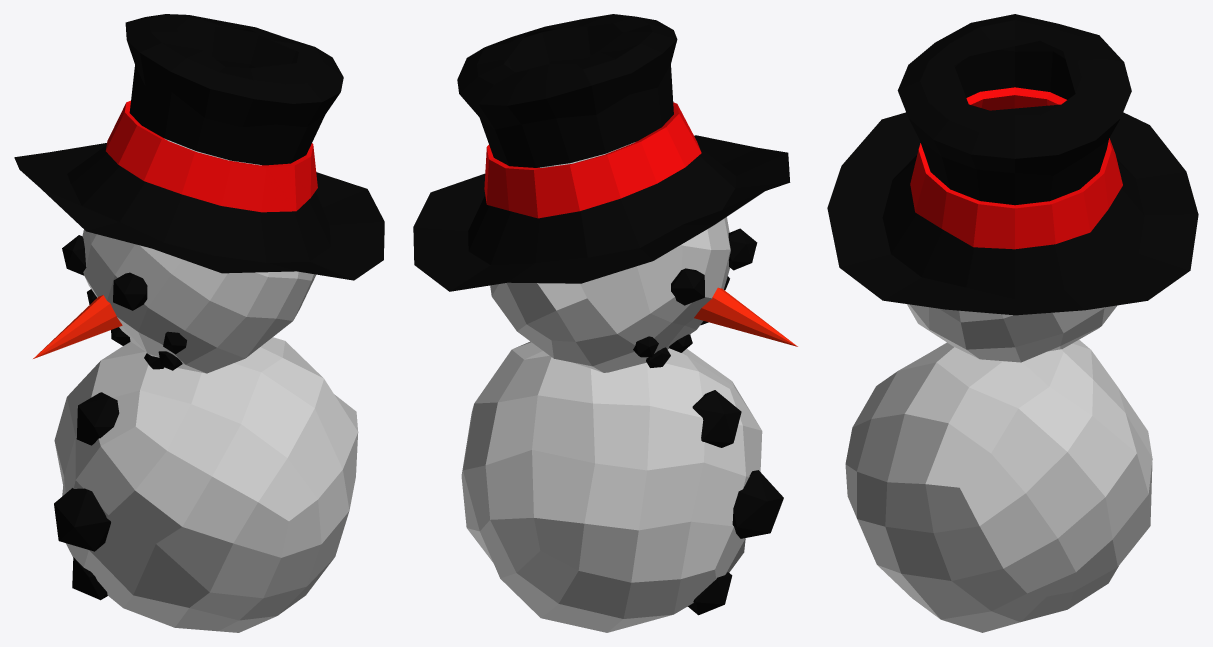
The model's file is Snowman.obj.
3 views of the same model, side by side, from view 1: azimuth 30°, elevation 25°; view 2: azimuth 150°, elevation 25°; view 3: azimuth 270°, elevation 25° (orthographic). The views are drawn at different scales.
Visible parts, largest first — view 1: object 1, _3, _1, _4, _5, _2; view 2: object 1, _3, _1, _4, _5, _2; view 3: _3, object 1, _4, _1.
Boxes of the visible parts, x1,y1,x2,y2 form: object 1: (54,337,358,632); _3: (14,14,384,280); _1: (82,138,315,373); _4: (105,100,317,212); _5: (54,235,186,600); _2: (33,295,122,358); object 1: (461,341,762,632); _3: (413,14,790,291); _1: (490,142,730,372); _4: (484,102,701,218); _5: (633,228,783,615); _2: (694,287,797,346); _3: (827,14,1198,315); object 1: (845,340,1152,632); _4: (910,87,1122,249); _1: (907,304,1117,362).
Size of the model in its own units: 275 by 437 by 256.
